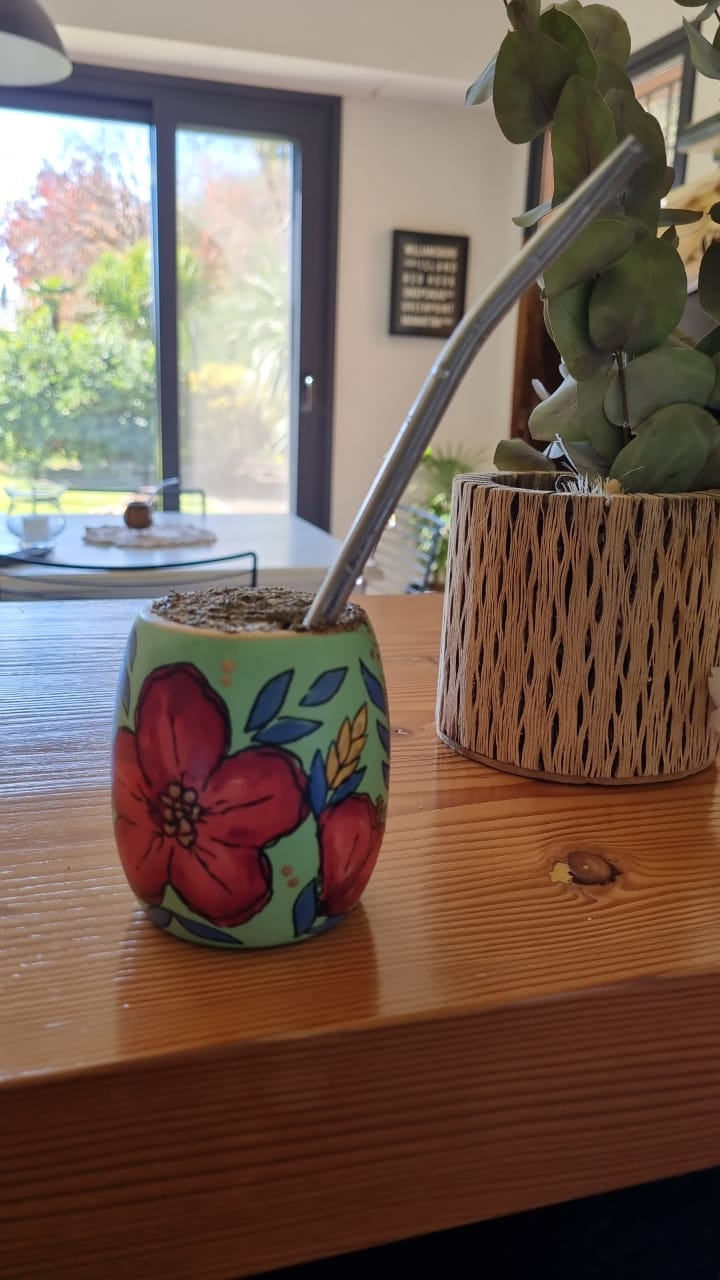mate: (117, 584, 389, 958)
